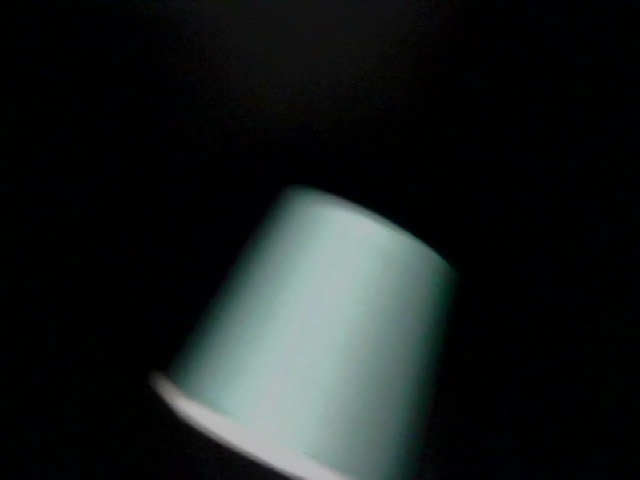KHSLJ: (89, 1, 606, 237)
